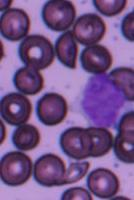M: (80, 72, 127, 128)
